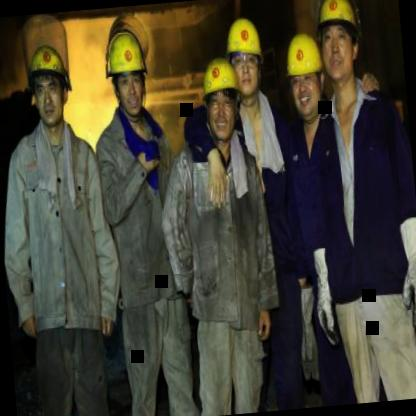helmet: (12, 18, 76, 136), (100, 13, 158, 123), (312, 0, 370, 102), (196, 51, 246, 140), (223, 10, 268, 100), (282, 27, 328, 113)
